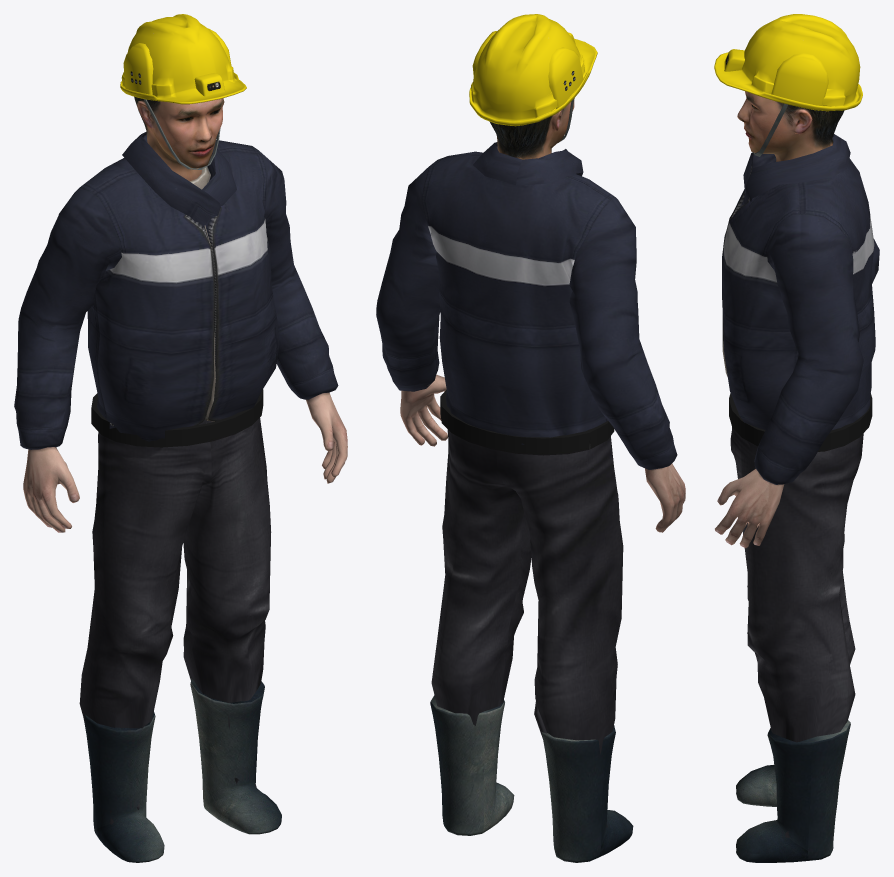
The model's file is staff.obj.
3 views of the same model, side by side, from view 1: azimuth 30°, elevation 25°; view 2: azimuth 150°, elevation 25°; view 3: azimuth 270°, elevation 25° (orthographic).
Size of the model in its own units: 0.7276 by 1.89 by 0.353.
